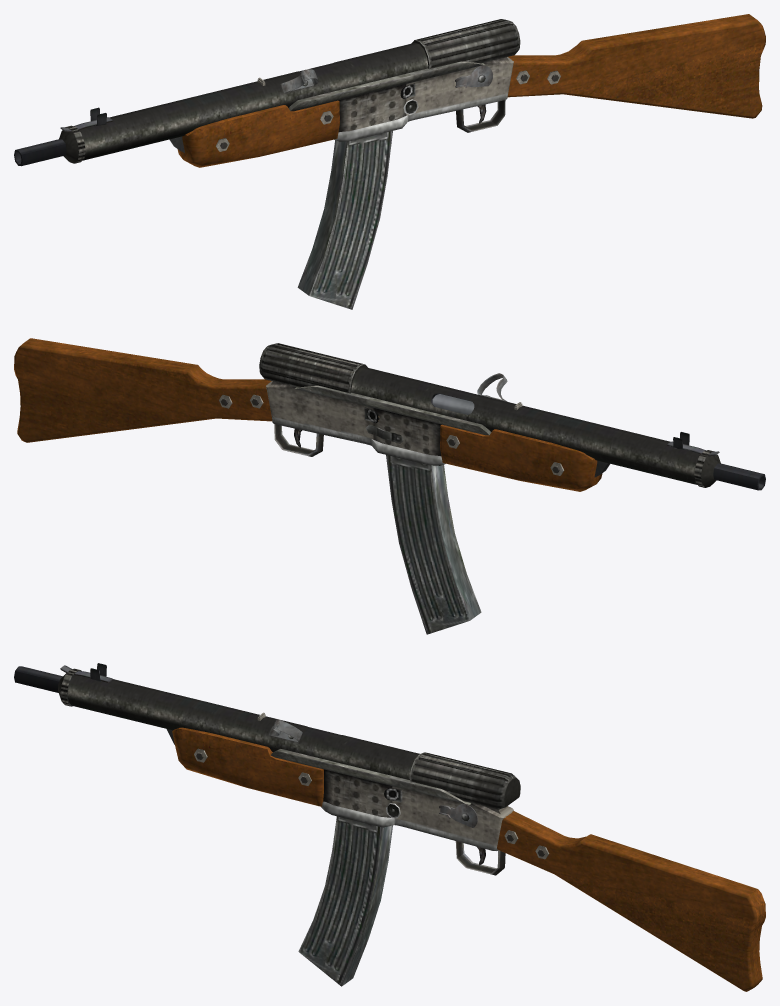
Rendered from volkssturmgewehr_vg_1-5_low_poly (1).glb.
The picture shows the model from 3 angles, top to bottom: view 1: azimuth 30°, elevation 25°; view 2: azimuth 150°, elevation 25°; view 3: azimuth 330°, elevation 25°; orthographic projection.
Parts seen in each view (by area): view 1: Material1; view 2: Material1; view 3: Material1.
Boxes of the visible parts, box(x1,y1,x2,y2) form: Material1: box(14, 14, 765, 309); Material1: box(14, 338, 765, 634); Material1: box(14, 663, 765, 991).
Size of the model in its own units: 5.87 by 1.96 by 0.4084.
Materials: 1 (1 with a texture image).
